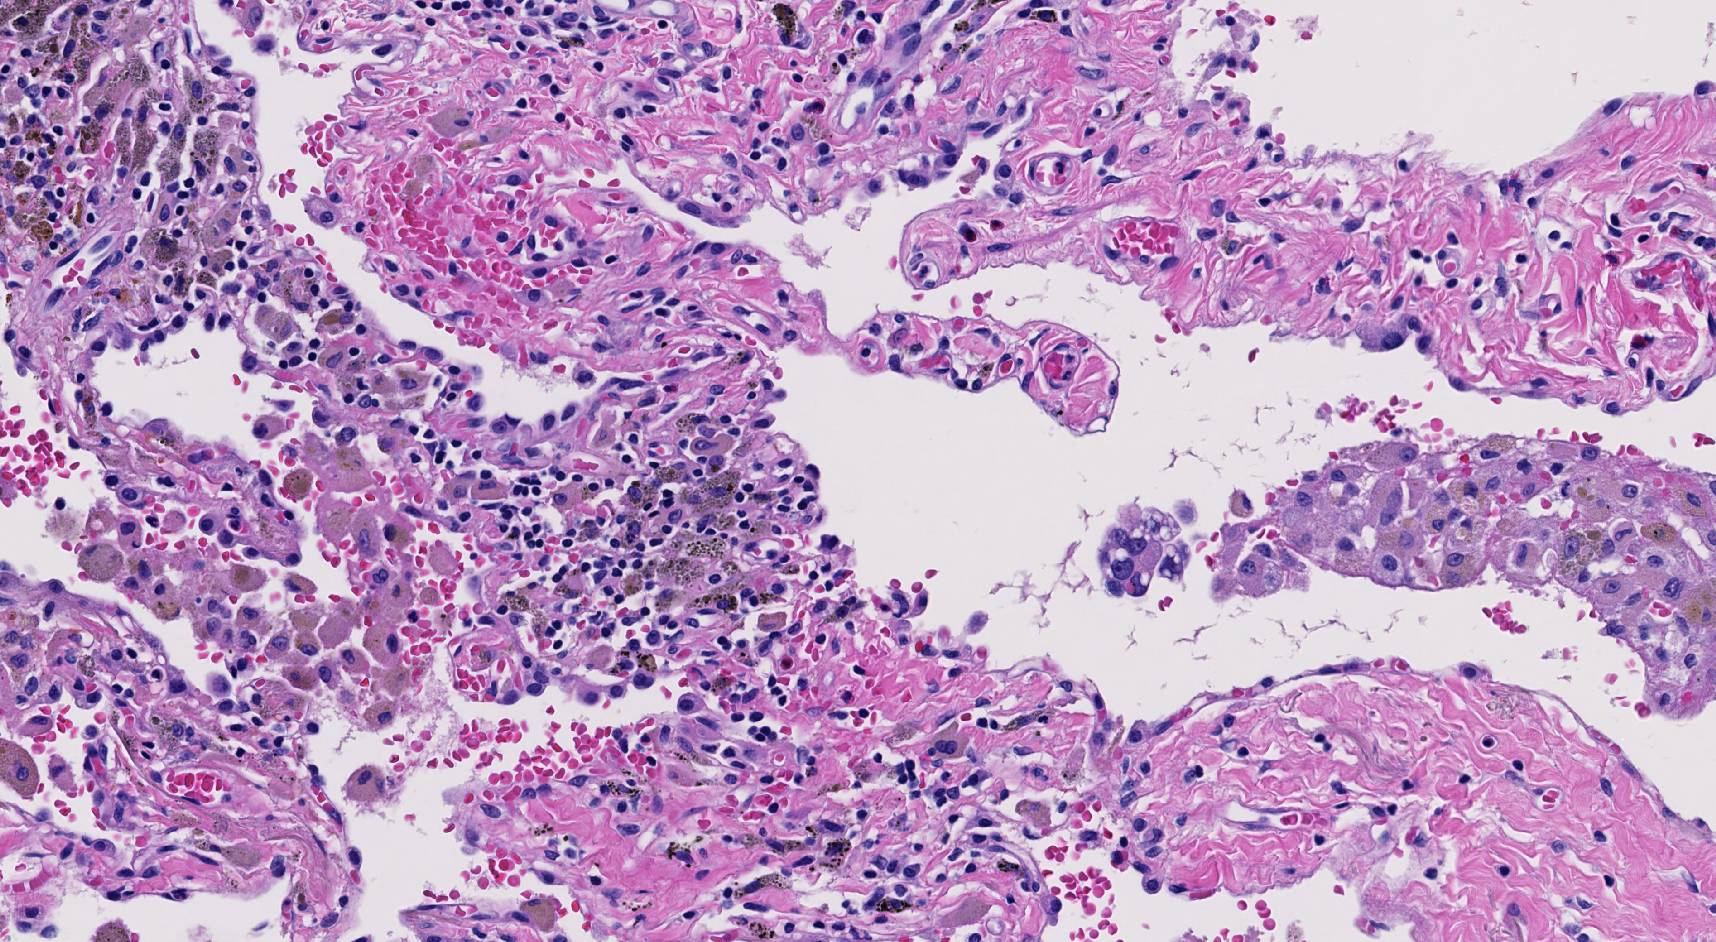stas: (1099, 503, 1195, 598)
